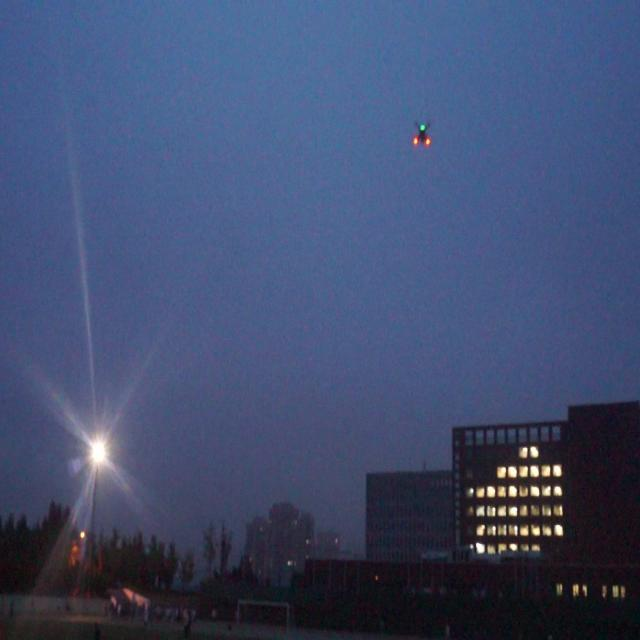UAV: (413, 118, 431, 146)
